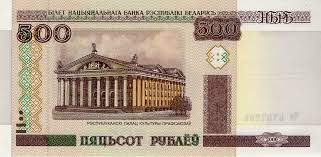belarus_ruble_500: (1, 1, 321, 155)
